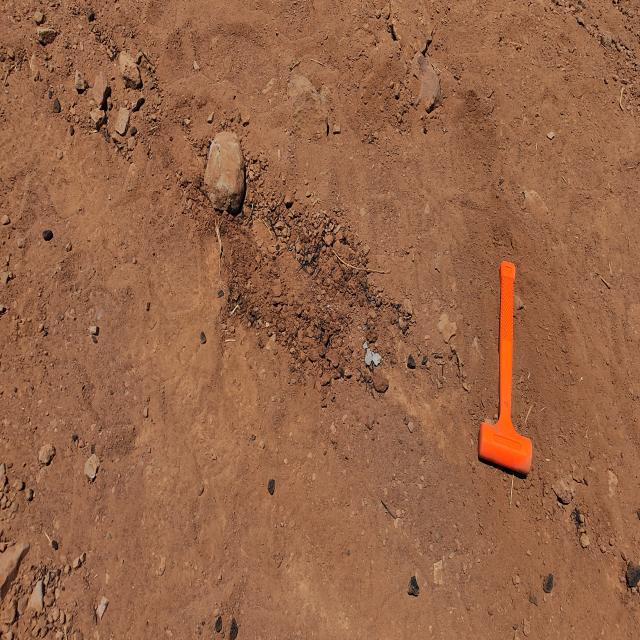Orange_hammer: (477, 259, 532, 477)
